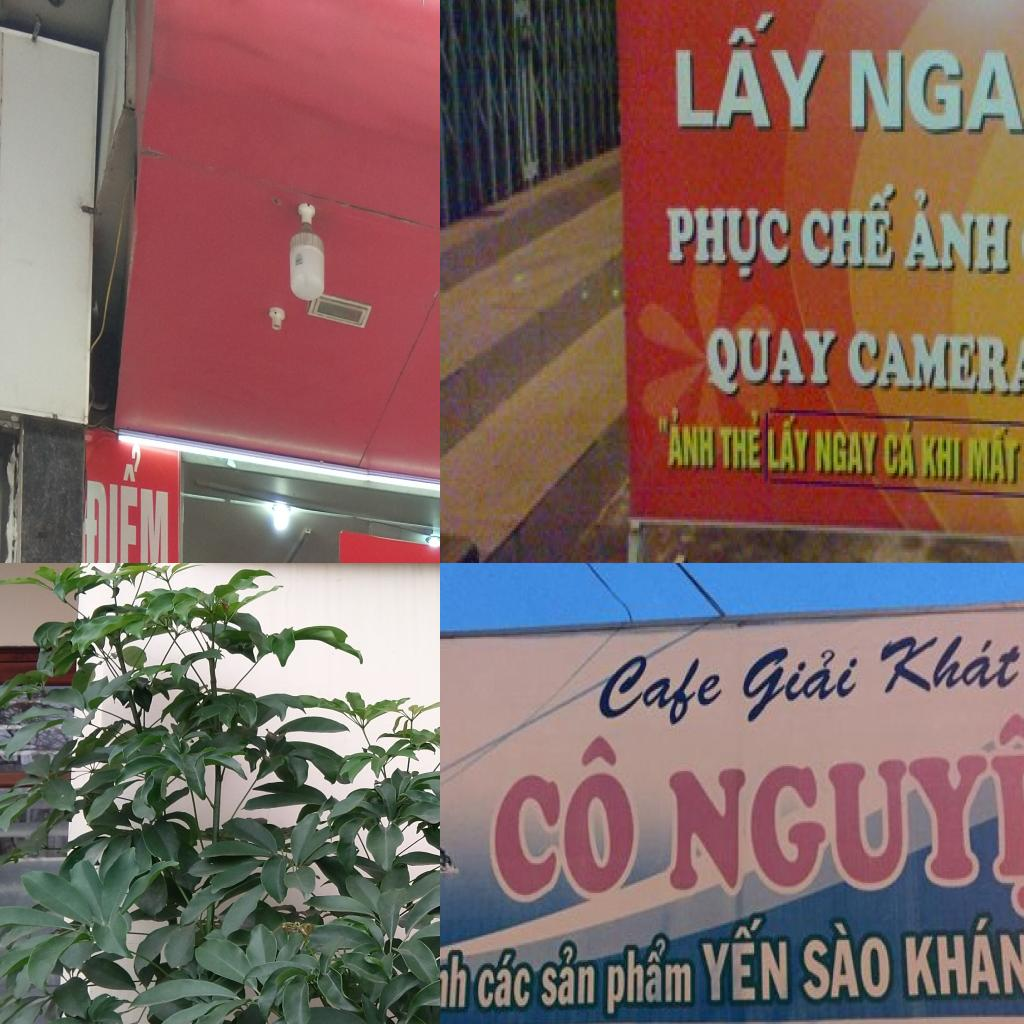text: (661, 694, 1024, 918), (491, 732, 646, 910), (672, 12, 840, 132), (847, 44, 1024, 139), (843, 325, 1024, 402), (874, 620, 1024, 702), (592, 644, 725, 732), (700, 323, 844, 402), (83, 434, 169, 563), (898, 918, 1024, 1003), (739, 637, 861, 724), (903, 186, 1016, 276), (666, 206, 792, 282), (799, 181, 899, 274), (604, 928, 698, 1024), (699, 920, 794, 1013), (794, 920, 897, 1005), (538, 938, 600, 1014), (472, 942, 536, 1012), (655, 405, 717, 473), (811, 424, 883, 481), (964, 421, 1024, 487), (766, 410, 815, 479), (717, 408, 764, 473), (880, 416, 920, 481), (440, 944, 470, 1020), (920, 435, 964, 484)
